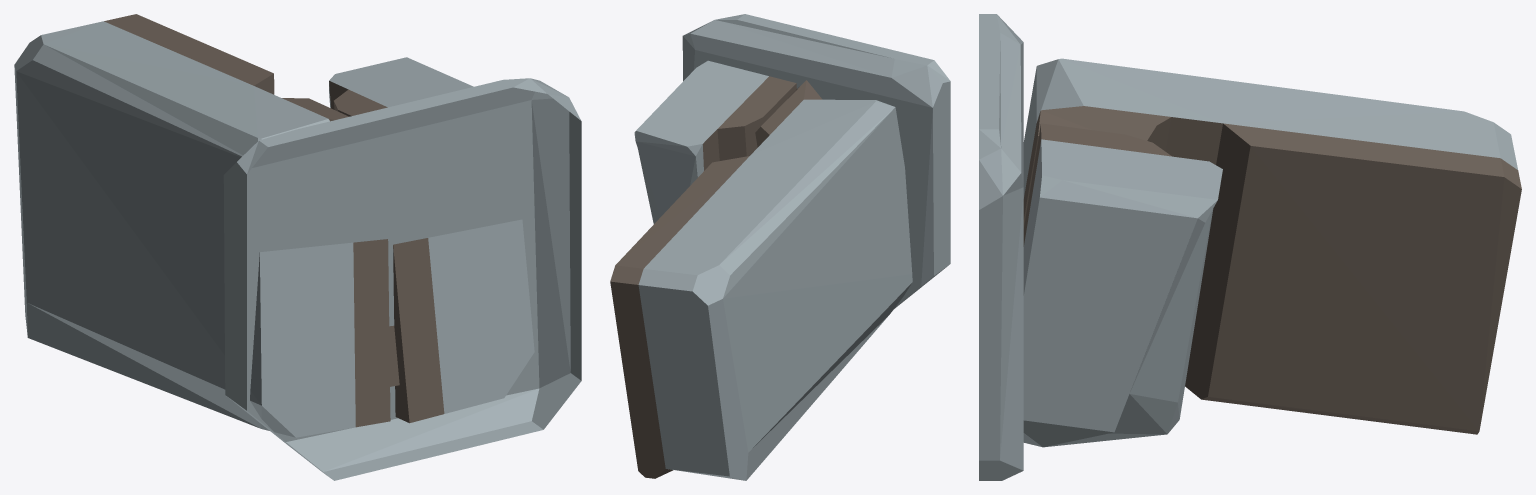
Rendered from Stone Tomb 02.FBX.
3 renders of one model, left to right at view 1: azimuth 30°, elevation 25°; view 2: azimuth 150°, elevation 25°; view 3: azimuth 270°, elevation 25°, orthographic. The views are drawn at different scales.
Visible parts, largest first — view 1: Stone Tomb 02; view 2: Stone Tomb 02; view 3: Stone Tomb 02.
Part boxes in pixels (x1=…): Stone Tomb 02: x1=14, y1=14, x2=581, y2=480; Stone Tomb 02: x1=610, y1=14, x2=950, y2=480; Stone Tomb 02: x1=979, y1=14, x2=1521, y2=480.
Bounding box in the file's own units: 354 × 516 × 384.
